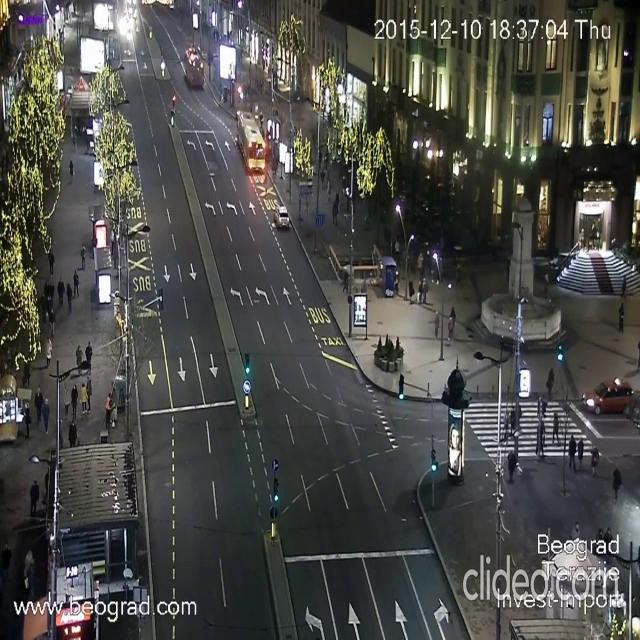bus: (236, 109, 266, 174), (184, 45, 204, 88)
car: (582, 377, 634, 415), (274, 206, 290, 228)
